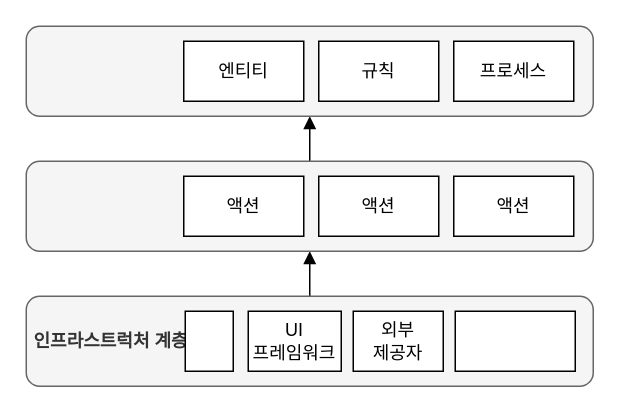
Image size: 620x413. Some labels were removed from this diagram. The box of each missing label's shape, as (x1, y1, x2, y2) in pixels:
DB: (184, 310, 233, 371)
메시지 버스: (454, 310, 575, 371)
비즈니스 로직 계층: (25, 25, 593, 116)
애플리케이션 계층: (25, 160, 593, 251)
